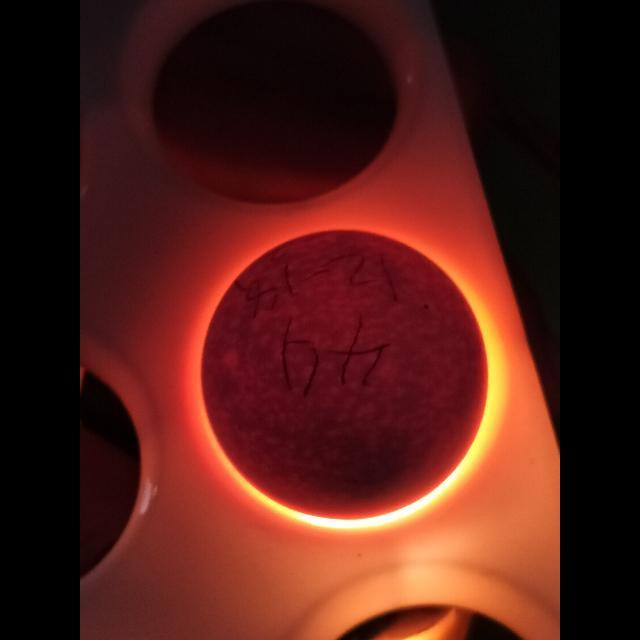Fertile: (208, 234, 492, 510)
